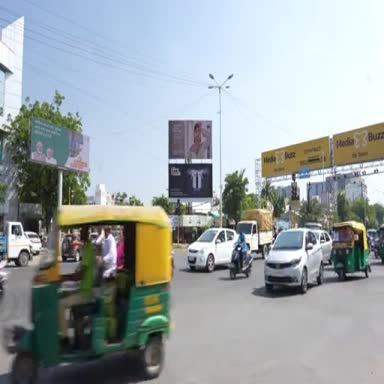Car: (264, 229, 323, 293), (188, 229, 237, 272), (314, 231, 332, 264), (62, 234, 83, 262), (24, 231, 41, 254), (90, 233, 98, 244)
